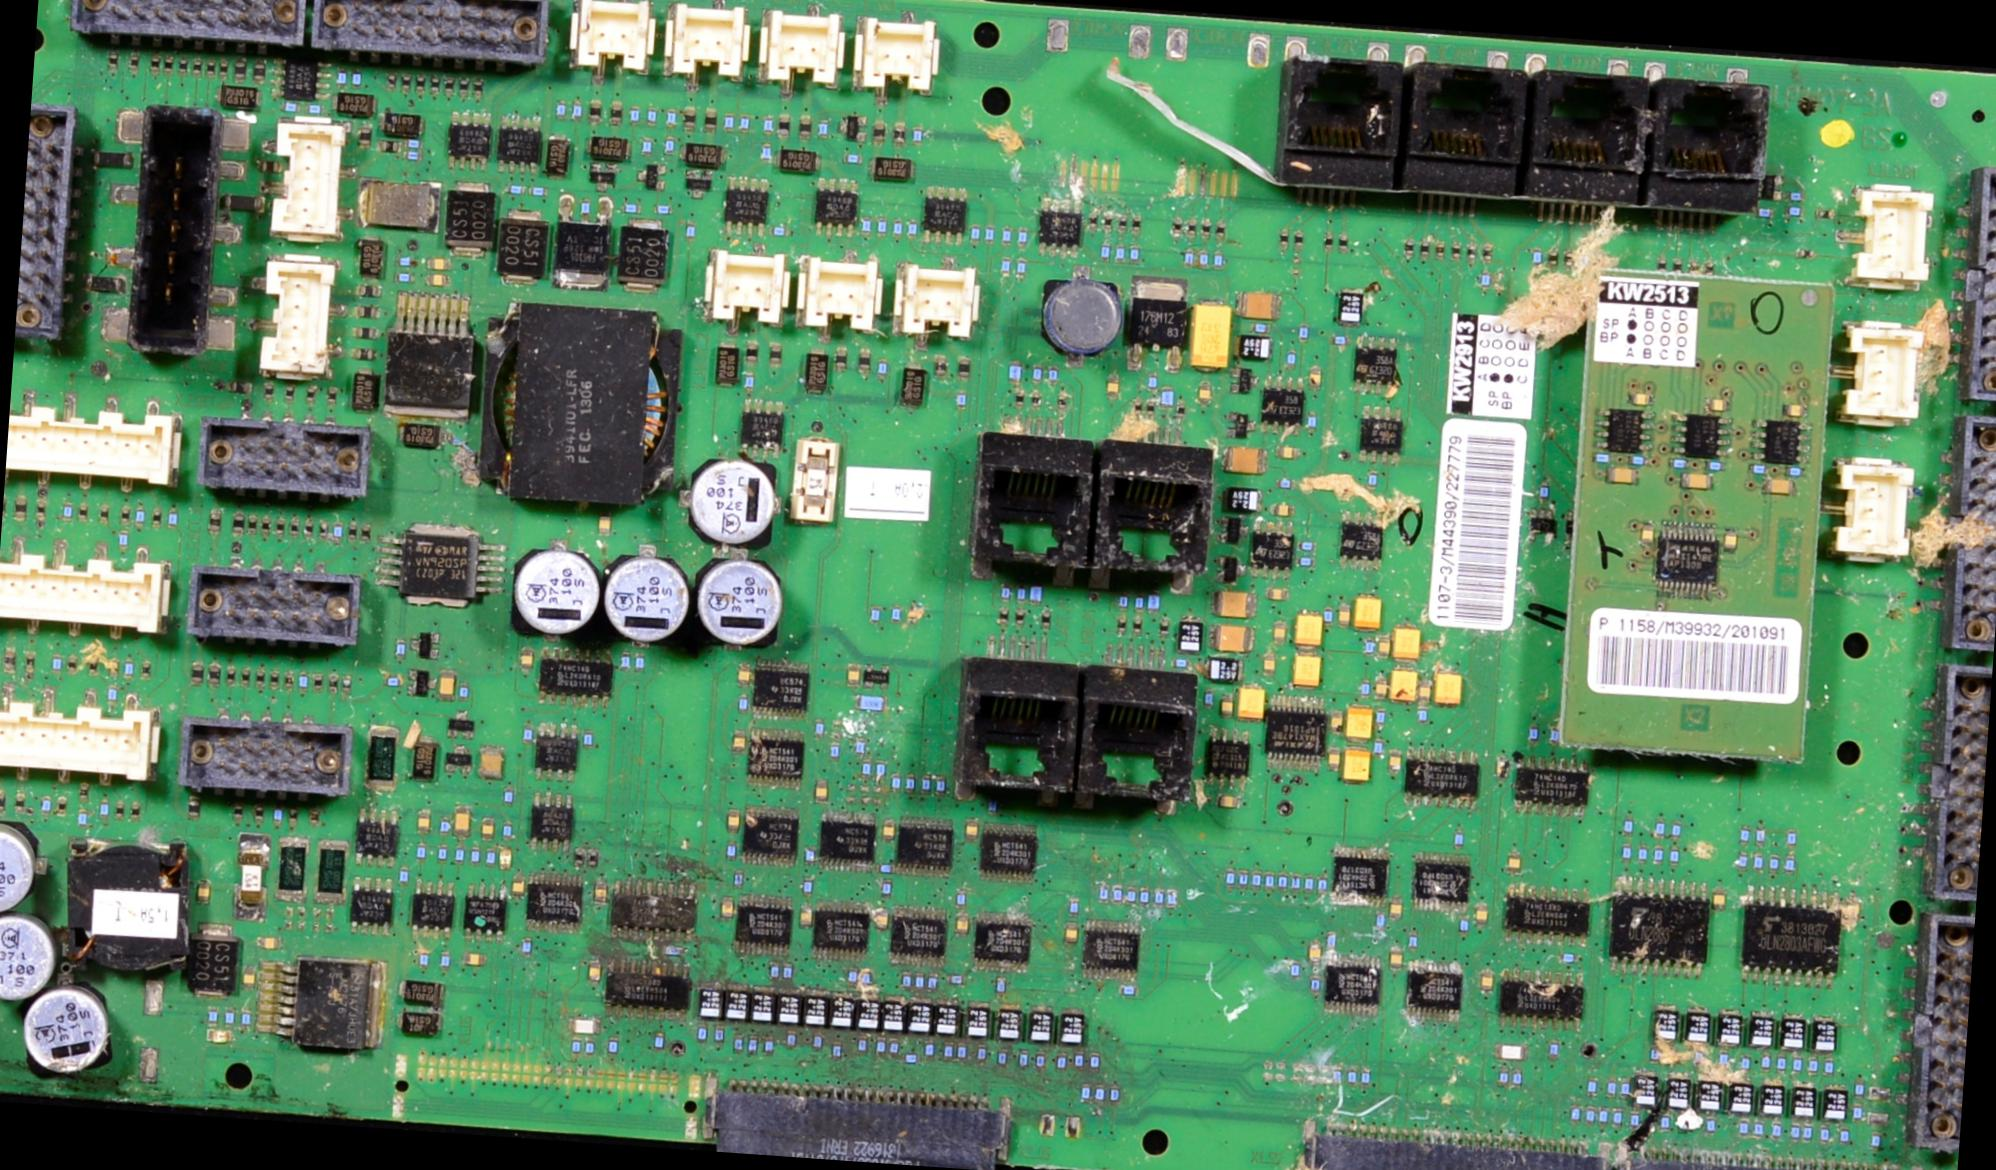Capacitor Jumper: (1235, 288, 1285, 321), (1232, 683, 1270, 726), (1213, 626, 1260, 658), (1225, 442, 1268, 476), (1352, 591, 1384, 635), (1338, 744, 1376, 781), (1344, 706, 1376, 746), (1432, 671, 1466, 708), (1218, 588, 1261, 617), (1390, 664, 1420, 705), (1389, 626, 1425, 660), (1294, 651, 1326, 689), (1599, 461, 1643, 487), (453, 945, 490, 975), (1294, 612, 1326, 646), (1678, 470, 1714, 495), (478, 745, 505, 775), (564, 1016, 604, 1036), (1760, 476, 1798, 497), (422, 254, 458, 275), (432, 673, 456, 704), (194, 874, 216, 906), (584, 960, 606, 988), (204, 1030, 231, 1052), (1495, 1043, 1524, 1063), (1216, 792, 1245, 812), (1631, 388, 1654, 413), (1266, 502, 1299, 519), (495, 842, 515, 870), (1505, 850, 1524, 879), (422, 269, 452, 287), (453, 806, 472, 834), (1326, 748, 1345, 774), (1219, 692, 1237, 719), (510, 872, 528, 899), (1062, 920, 1082, 944), (1335, 602, 1352, 630), (873, 906, 890, 934), (240, 965, 254, 998), (962, 818, 980, 843), (1473, 902, 1491, 927), (718, 895, 736, 920), (1784, 400, 1806, 420), (876, 818, 898, 838), (1390, 745, 1404, 776), (1372, 677, 1389, 702), (1104, 372, 1120, 398), (1327, 710, 1343, 736), (844, 667, 862, 690), (1386, 899, 1404, 922), (1710, 887, 1724, 916), (414, 809, 431, 832), (798, 904, 813, 930), (1307, 940, 1323, 964), (1388, 947, 1404, 970), (1274, 622, 1289, 646), (1416, 682, 1432, 704), (1720, 534, 1739, 552), (1378, 636, 1392, 660), (1198, 384, 1212, 406), (955, 914, 969, 935), (1260, 650, 1273, 672), (1266, 586, 1286, 600), (736, 669, 752, 686), (1708, 398, 1727, 412), (725, 808, 738, 828), (262, 938, 278, 954), (1638, 528, 1656, 542), (732, 730, 744, 751), (818, 779, 827, 796)
IC: (380, 288, 480, 414), (258, 959, 384, 1057), (1602, 874, 1710, 979), (1737, 884, 1842, 988), (1496, 966, 1587, 1036), (607, 880, 702, 942), (1260, 690, 1330, 774), (1502, 885, 1592, 947), (600, 957, 696, 1014), (1399, 742, 1481, 808), (1508, 756, 1592, 820), (884, 904, 957, 971), (1652, 529, 1718, 597), (731, 890, 796, 959), (1079, 919, 1144, 987), (970, 908, 1034, 976), (814, 806, 876, 876), (1326, 844, 1391, 910), (976, 818, 1040, 885), (810, 897, 870, 966), (748, 658, 812, 722), (1318, 954, 1382, 1017), (525, 868, 585, 934), (1410, 850, 1472, 913), (806, 175, 866, 240), (743, 801, 800, 869), (1402, 959, 1463, 1021), (445, 102, 499, 172), (744, 730, 804, 790), (346, 872, 398, 938), (350, 802, 402, 868), (1356, 404, 1407, 470), (530, 722, 582, 786), (722, 174, 772, 239), (898, 817, 951, 876), (1259, 376, 1307, 439), (498, 111, 545, 174), (412, 874, 456, 941), (920, 184, 969, 244), (1348, 334, 1397, 394), (1594, 408, 1655, 456), (1670, 411, 1728, 460), (271, 54, 330, 102), (529, 789, 572, 854), (1751, 418, 1809, 466), (1339, 508, 1383, 570), (1039, 197, 1085, 256), (466, 883, 510, 935), (462, 880, 476, 902)
Resistor Jumper: (228, 54, 252, 84), (354, 280, 384, 301), (350, 341, 380, 362), (349, 324, 379, 344), (252, 52, 272, 80), (869, 118, 887, 148), (606, 99, 625, 126), (700, 106, 718, 134), (856, 347, 874, 375), (932, 354, 950, 381), (766, 341, 785, 366), (678, 104, 696, 130), (796, 112, 812, 140), (774, 112, 791, 138), (351, 301, 378, 317), (208, 508, 223, 536), (890, 121, 906, 147), (955, 355, 971, 381), (228, 379, 252, 396), (588, 98, 602, 127), (834, 344, 849, 371), (126, 50, 141, 75), (105, 46, 118, 72), (231, 508, 244, 534), (148, 50, 162, 74), (215, 57, 229, 80), (744, 340, 756, 366), (248, 512, 260, 538), (161, 54, 173, 78), (192, 54, 205, 76), (274, 517, 286, 539), (262, 516, 274, 538), (306, 386, 318, 407), (150, 508, 162, 528), (282, 383, 295, 401), (176, 50, 186, 72), (119, 506, 130, 526), (262, 380, 274, 398), (316, 522, 328, 540), (99, 505, 110, 524), (326, 388, 339, 404), (300, 516, 310, 536), (204, 56, 215, 74), (289, 520, 299, 538), (360, 525, 369, 544), (348, 521, 357, 539)
Transistor: (1126, 294, 1191, 381), (579, 157, 620, 191), (1215, 506, 1246, 548), (680, 166, 716, 202), (1222, 408, 1258, 442), (1214, 552, 1246, 588), (410, 628, 443, 662), (444, 743, 477, 777), (1228, 362, 1258, 399), (445, 709, 478, 742), (634, 161, 668, 193), (404, 668, 440, 698), (834, 112, 866, 145)
